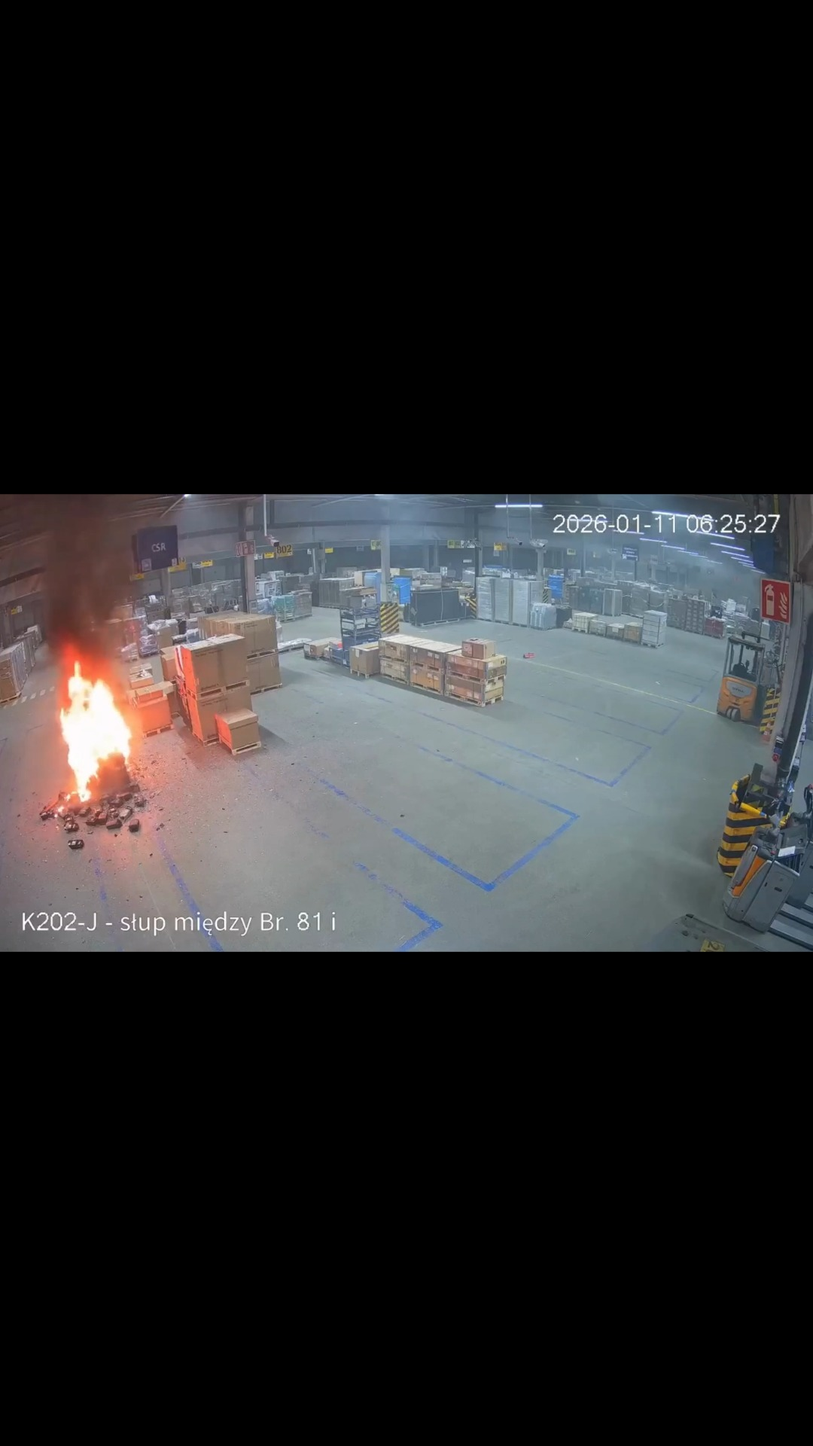fire: (51, 653, 139, 810)
smoke: (9, 494, 148, 672)
